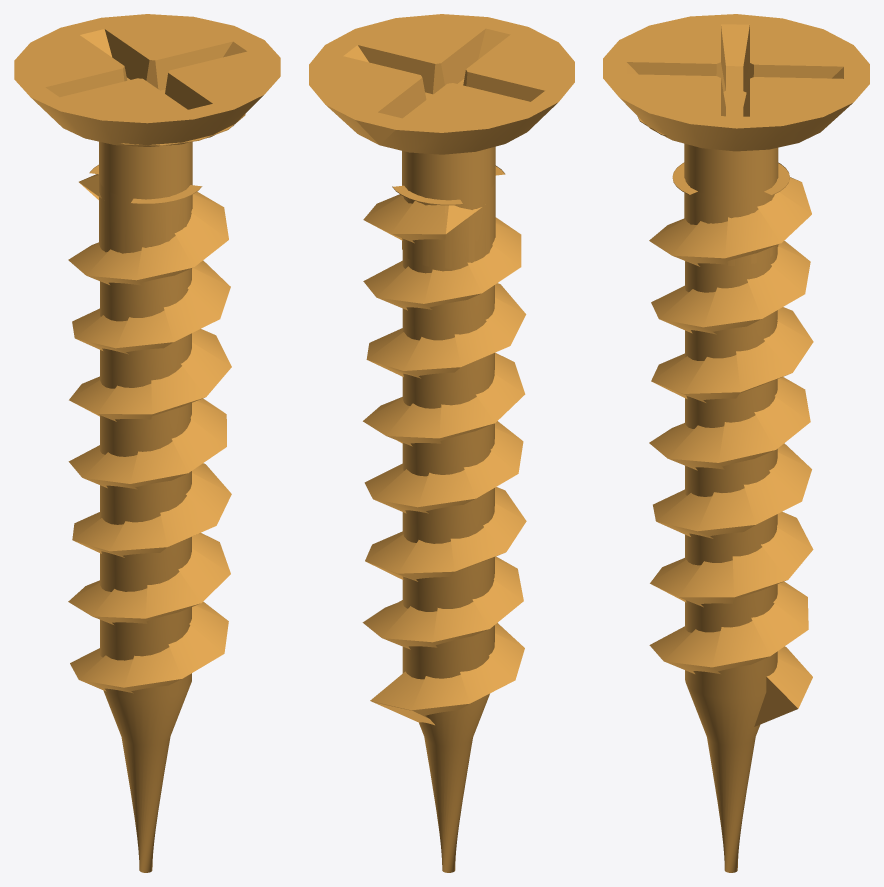
File: par01.obj
3 renders of one model, left to right at view 1: azimuth 30°, elevation 25°; view 2: azimuth 150°, elevation 25°; view 3: azimuth 270°, elevation 25°, orthographic.
Parts seen in each view (by area): view 1: mesh01; view 2: mesh01; view 3: mesh01.
Part boxes in pixels (x1,y1,x2,y2): mesh01: (14,14,280,872); mesh01: (309,14,574,872); mesh01: (603,14,869,872).
Size of the model in its own units: 82.2 by 269 by 80.93.
